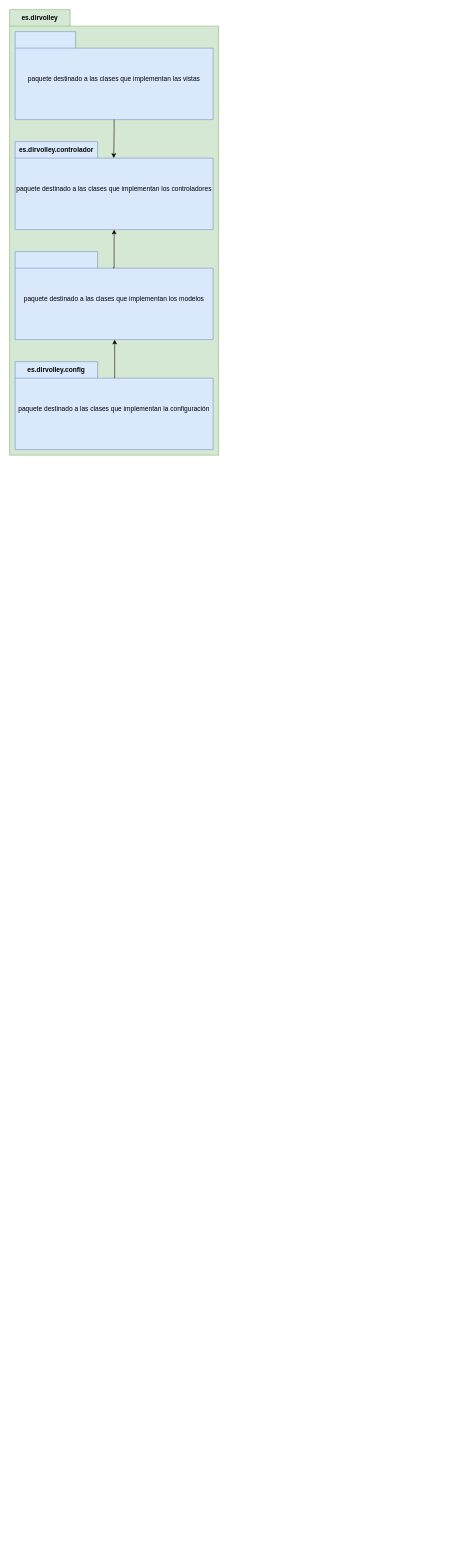
The diagram is 453 pixels wide and 1550 high, and some of its shapes have lost their labels. Here are the shapes that lost their labels. From the top down, the centre of each, then its label:
At point 114,75: "es.dirvolley.view".
At point 114,295: "es.dirvolley.model".
